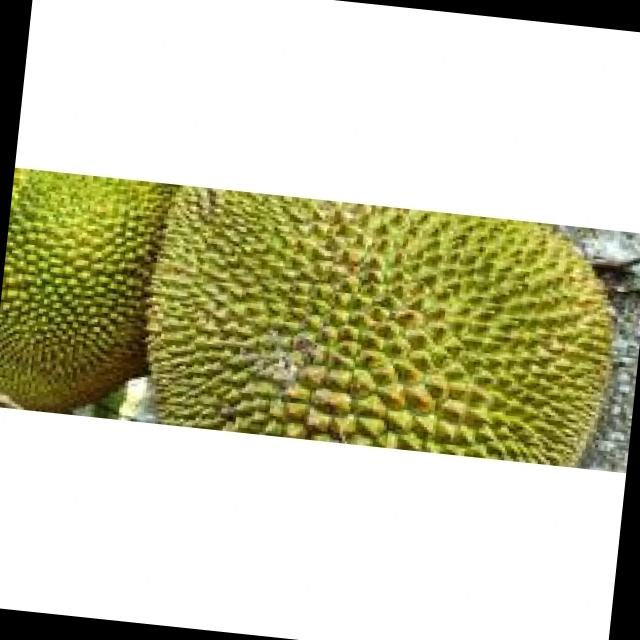Fruit: (230, 189, 640, 477), (0, 167, 189, 424)
